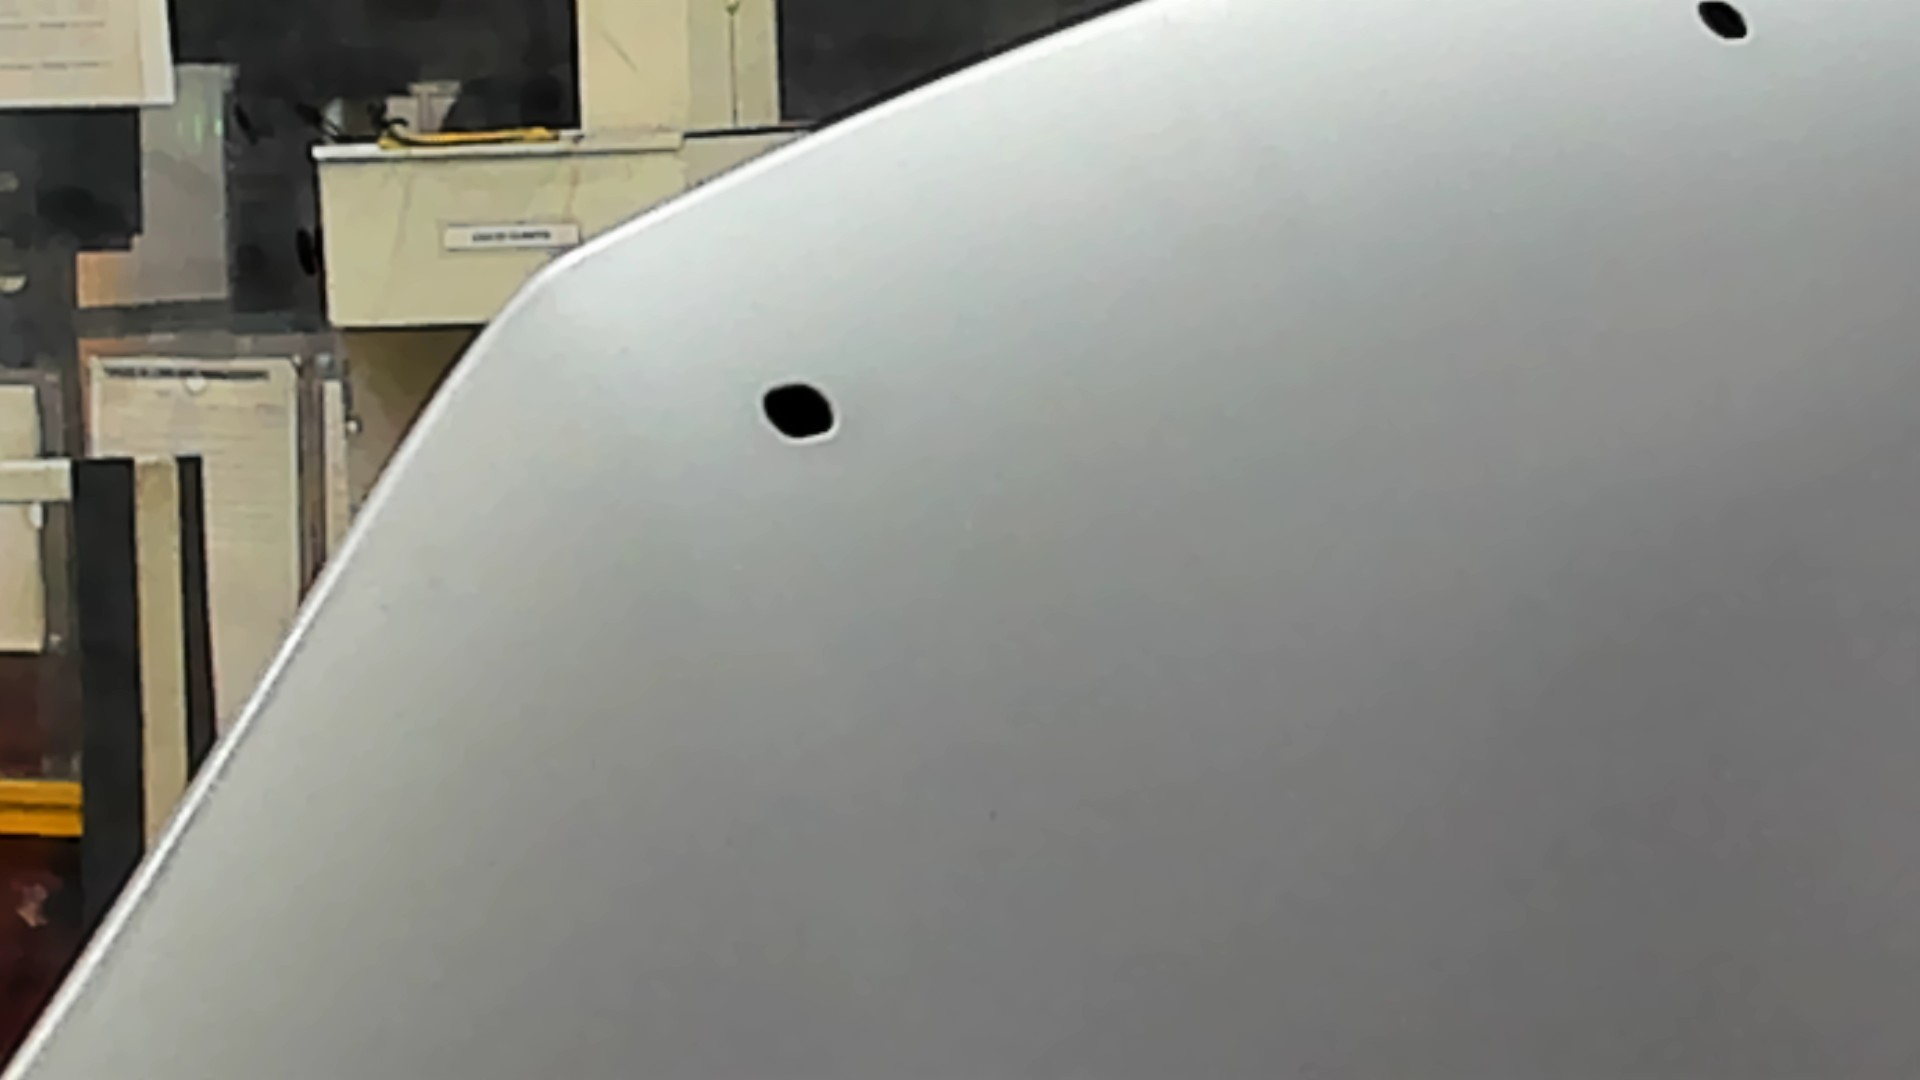Agujero: (758, 381, 843, 444), (1687, 5, 1756, 46)
